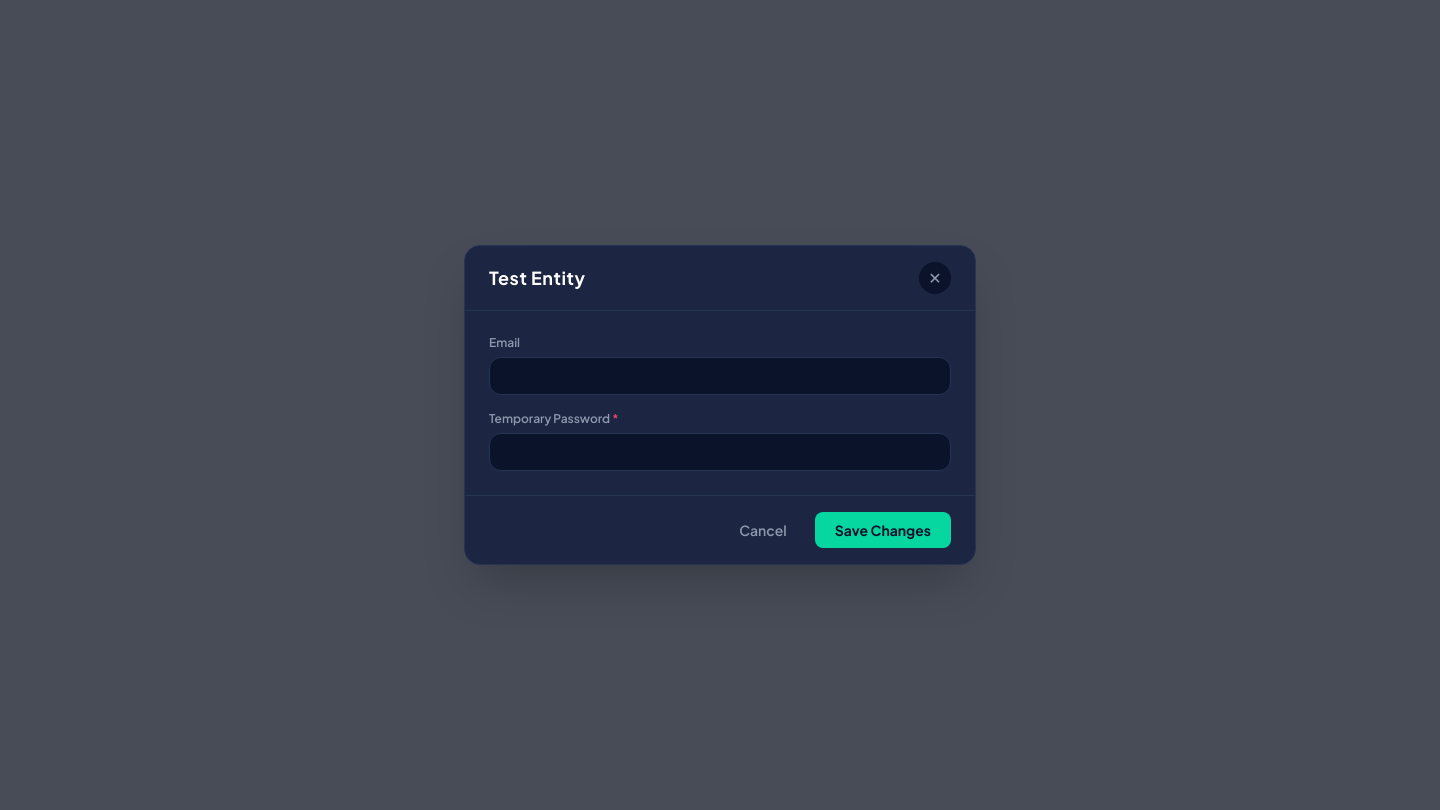
Test: CrudModal password fields › rejects a password shorter than the minimum
Type "12345" into the password field labelled "Temporary Password*" at (720, 452), box [489, 433, 951, 471]
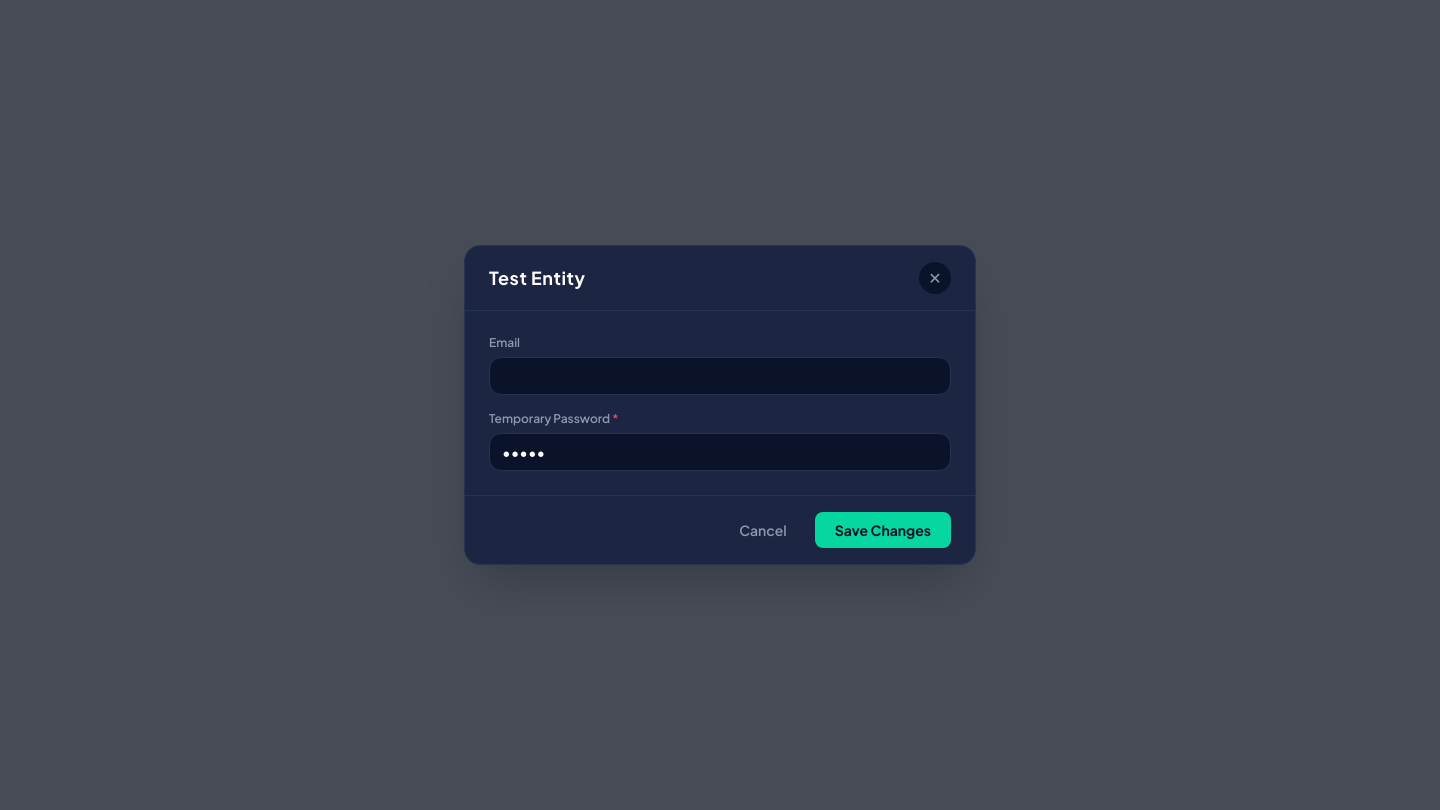
Click the button "Save Changes" at (883, 530), box [815, 512, 951, 548]
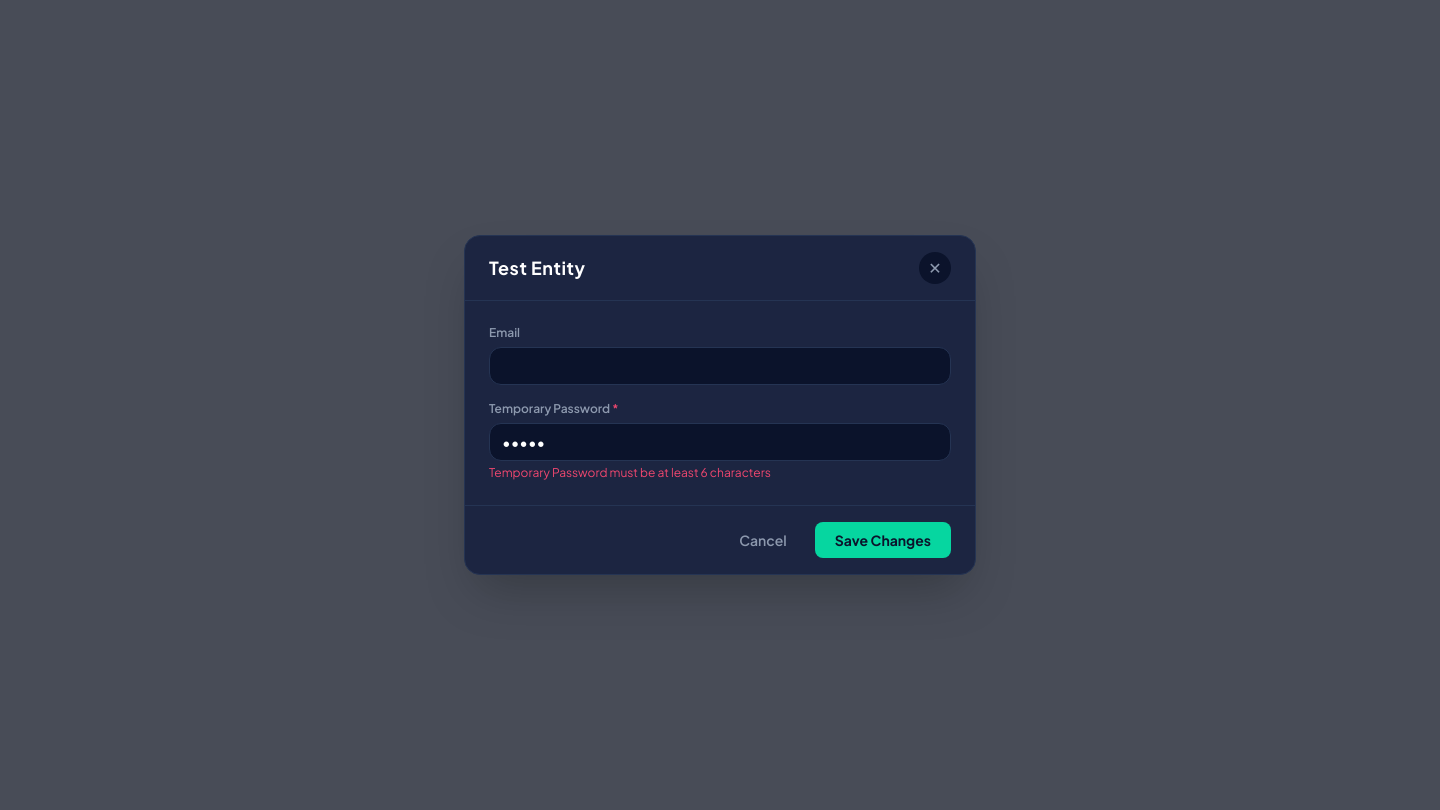
expect the text "Temporary Password must be at least 6 characters" is shown: met, box [489, 465, 771, 480]
